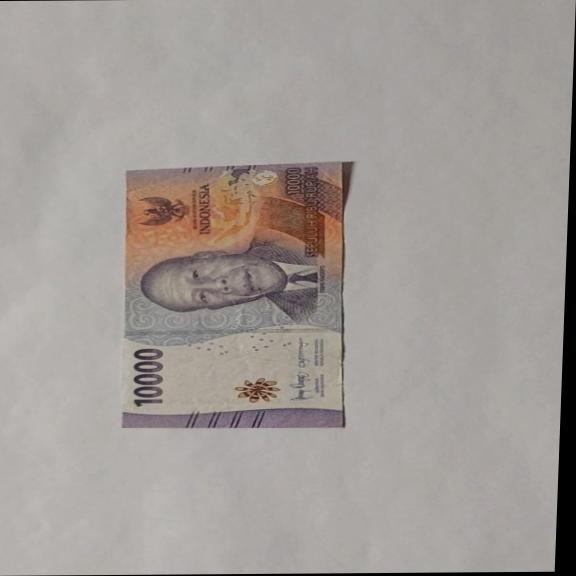Kertas: (115, 160, 355, 429), (128, 347, 166, 407)
